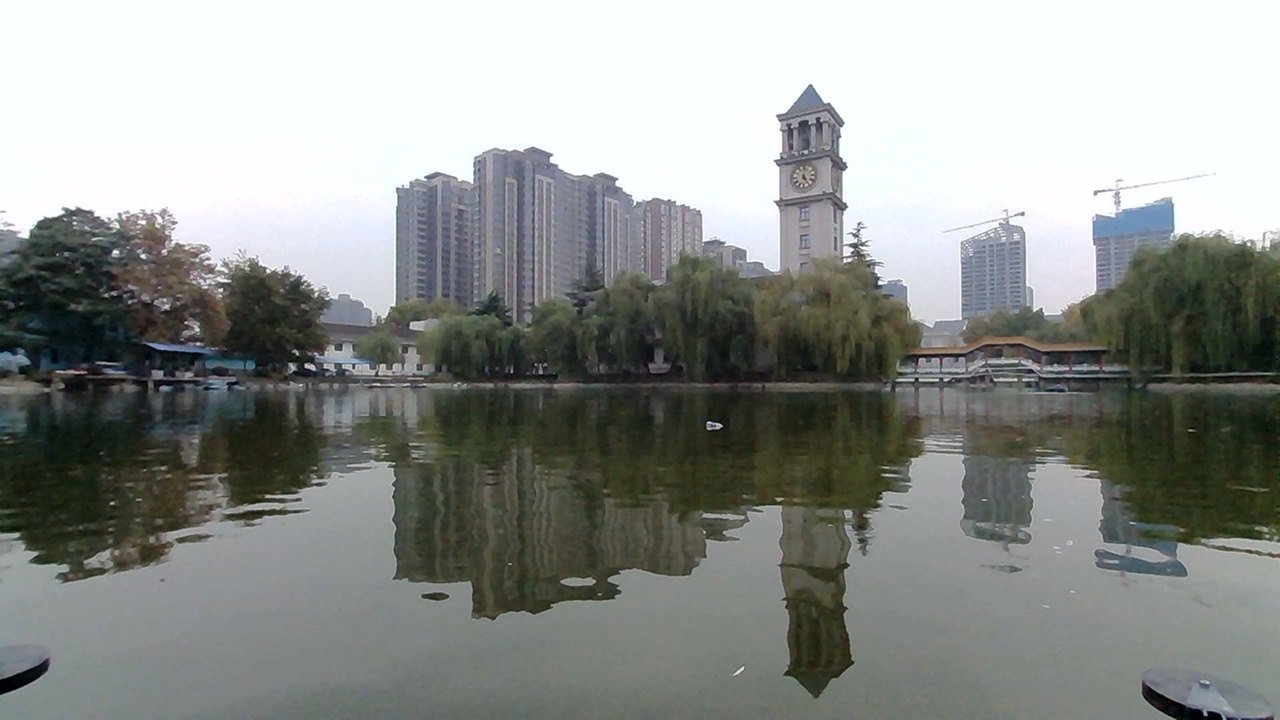bottle: (700, 407, 739, 437)
